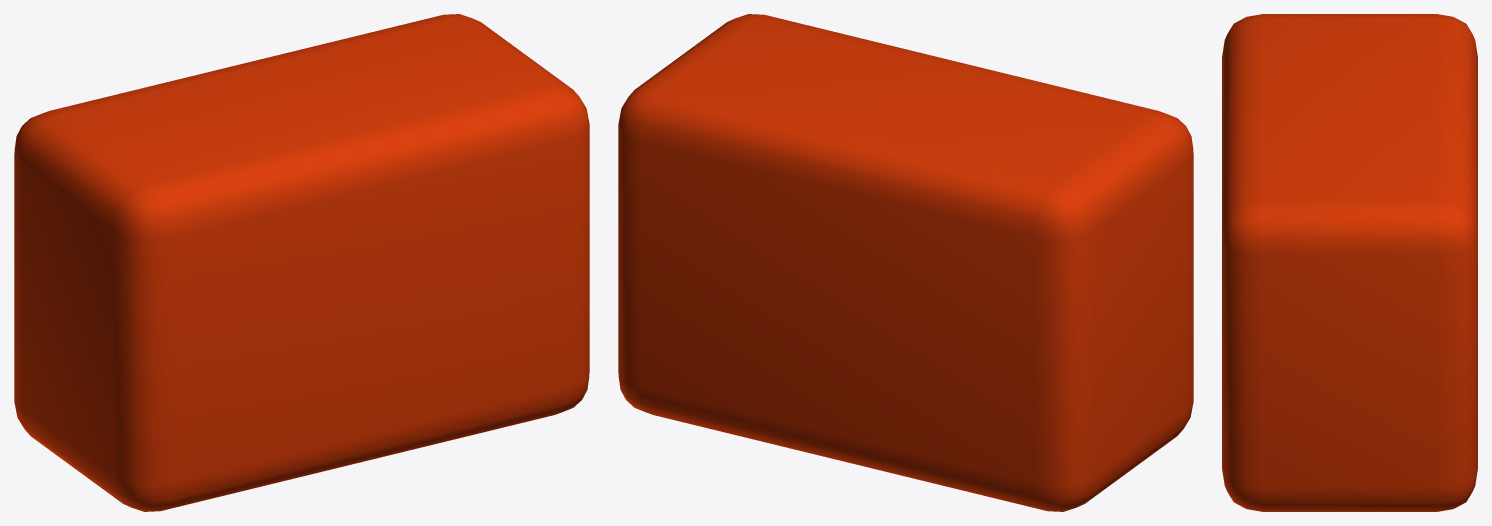
Rendered from Stone.fbx.
3 renders of one model, left to right at view 1: azimuth 30°, elevation 25°; view 2: azimuth 150°, elevation 25°; view 3: azimuth 270°, elevation 25°, orthographic. The views are drawn at different scales.
Parts seen in each view (by area): view 1: Stone; view 2: Stone; view 3: Stone.
Part boxes in pixels (box(x1,y1,x2,y2)): Stone: box(14, 14, 589, 511); Stone: box(618, 14, 1193, 511); Stone: box(1222, 14, 1477, 511).
Bounding box in the file's own units: 19.69 × 12.9 × 9.84.
